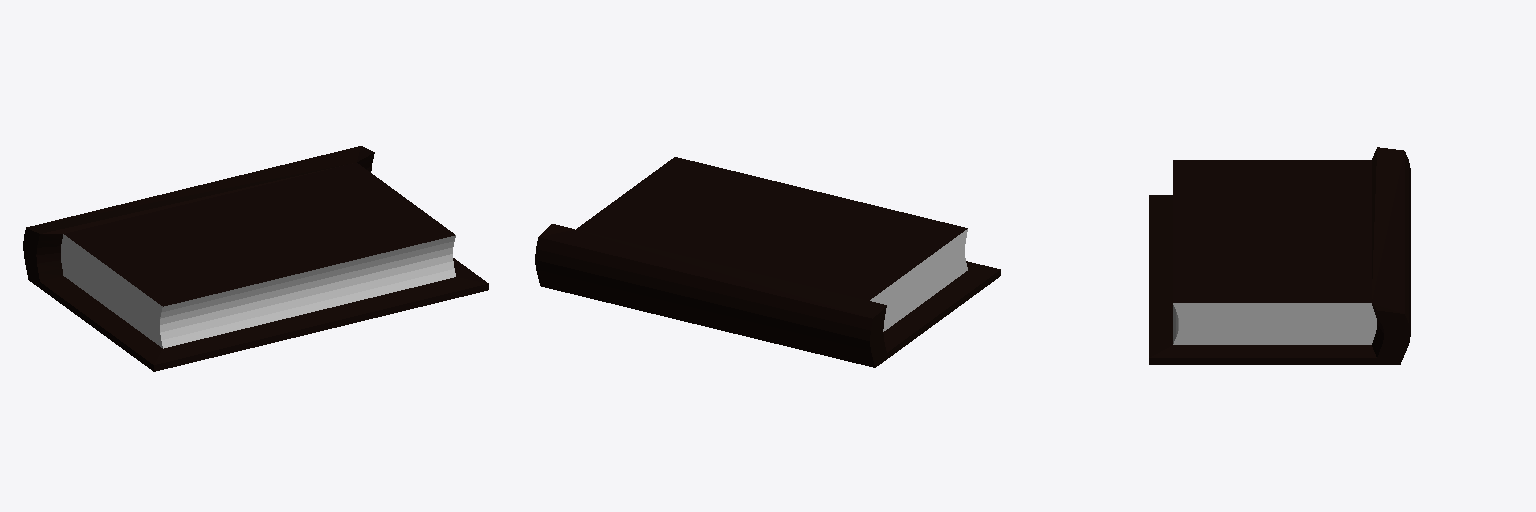
File: book.obj
The picture shows the model from 3 angles: view 1: azimuth 30°, elevation 25°; view 2: azimuth 150°, elevation 25°; view 3: azimuth 270°, elevation 25°; orthographic projection.
Visible parts, largest first — view 1: Cube; view 2: Cube; view 3: Cube.
Boxes of the visible parts, x1=… form: Cube: x1=23, y1=146, x2=488, y2=371; Cube: x1=535, y1=157, x2=1000, y2=367; Cube: x1=1149, y1=147, x2=1410, y2=364.
Bounding box in the file's own units: 1.08 × 0.1682 × 0.7346.